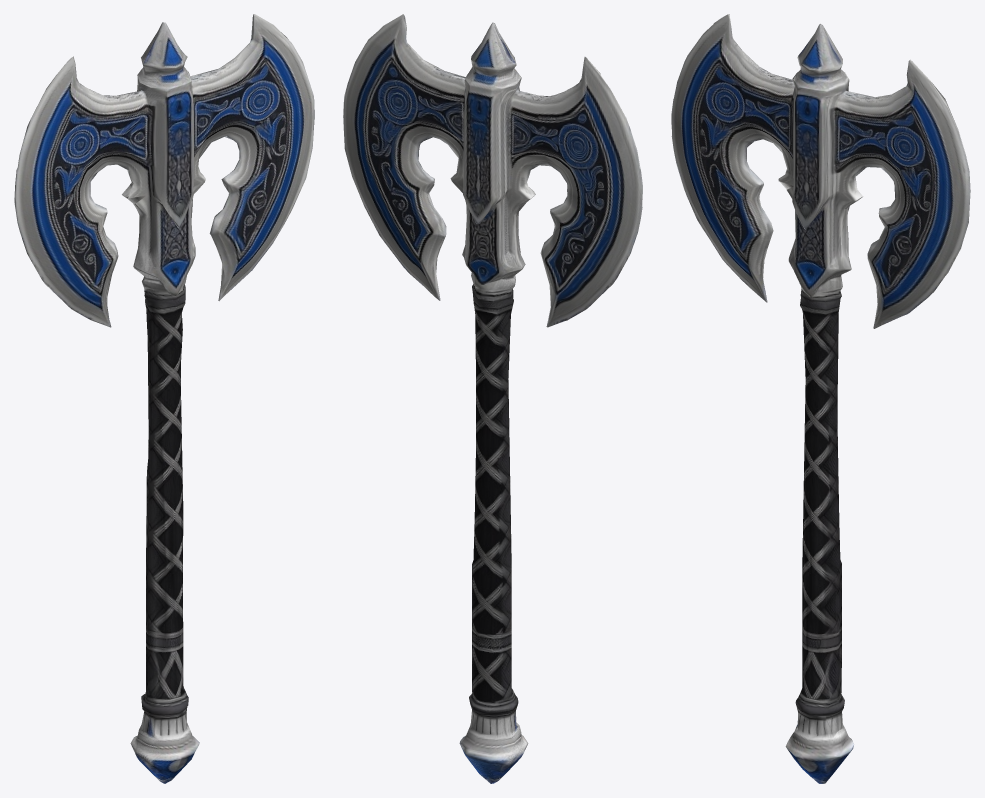
The model's file is 441_w_axe2.glb.
The picture shows the model from 3 angles, left to right: view 1: azimuth 30°, elevation 25°; view 2: azimuth 150°, elevation 25°; view 3: azimuth 330°, elevation 25°; orthographic projection.
Visible parts, largest first — view 1: Model; view 2: Model; view 3: Model.
Part boxes in pixels (bbox=[...]): Model: bbox=[14, 14, 314, 783]; Model: bbox=[343, 14, 642, 783]; Model: bbox=[671, 14, 970, 783].
Bounding box in the file's own units: 0.4123 × 1 × 0.0793.
1 material, 1 textured.
